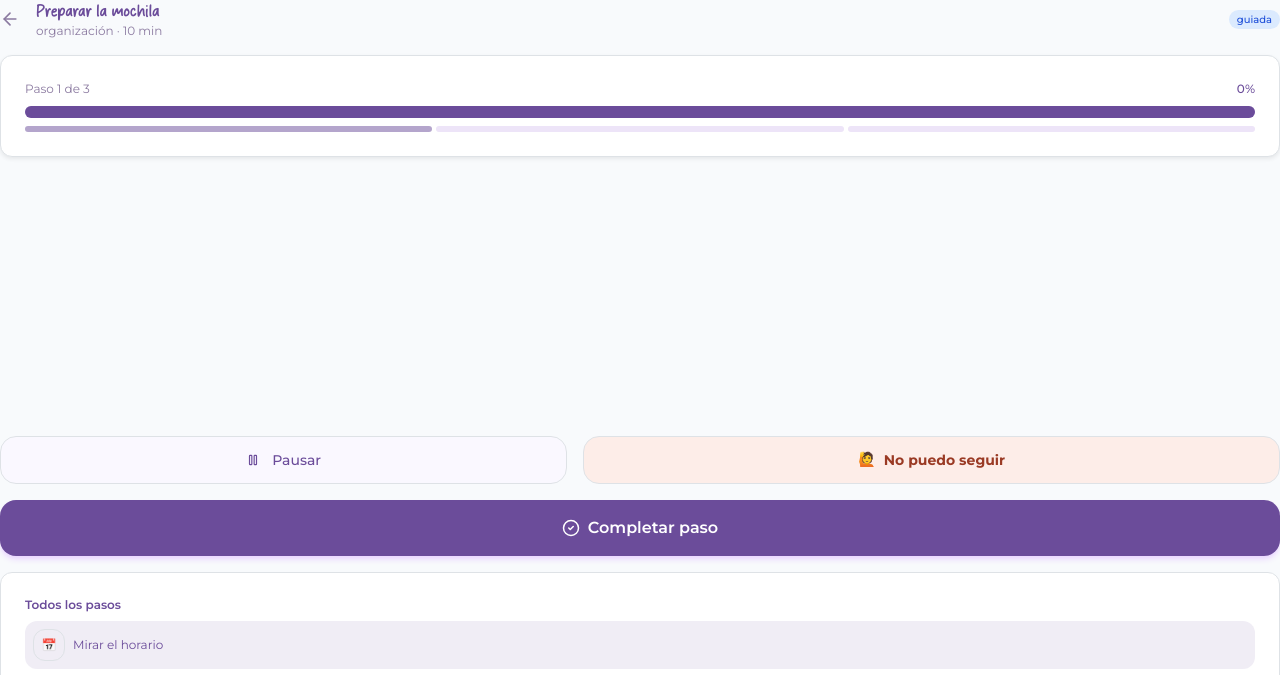
Test: No puedo seguir › "Lo hago así" cierra la hoja y muestra el Plan B, que se cierra con la ✕
Click the button "🙋 No puedo seguir". click: (932, 460)
box: [583,436,1279,484]
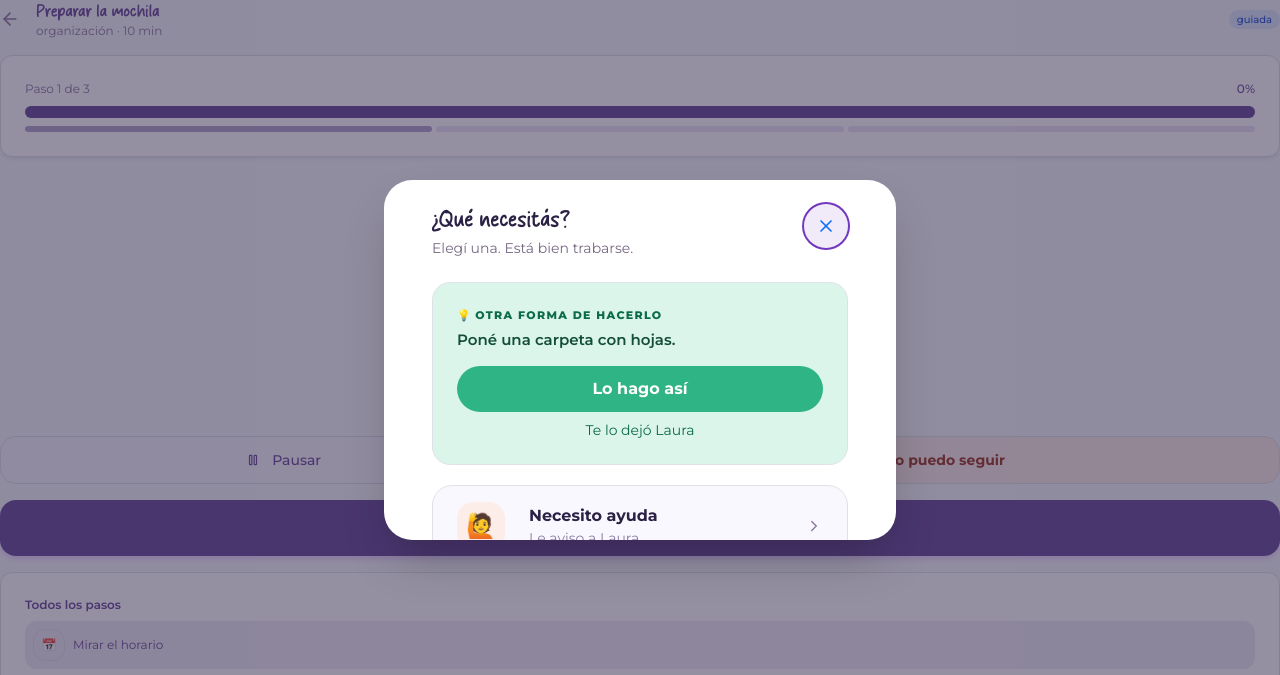
Click the button "Lo hago así". click: (640, 389)
box: [457,366,823,412]
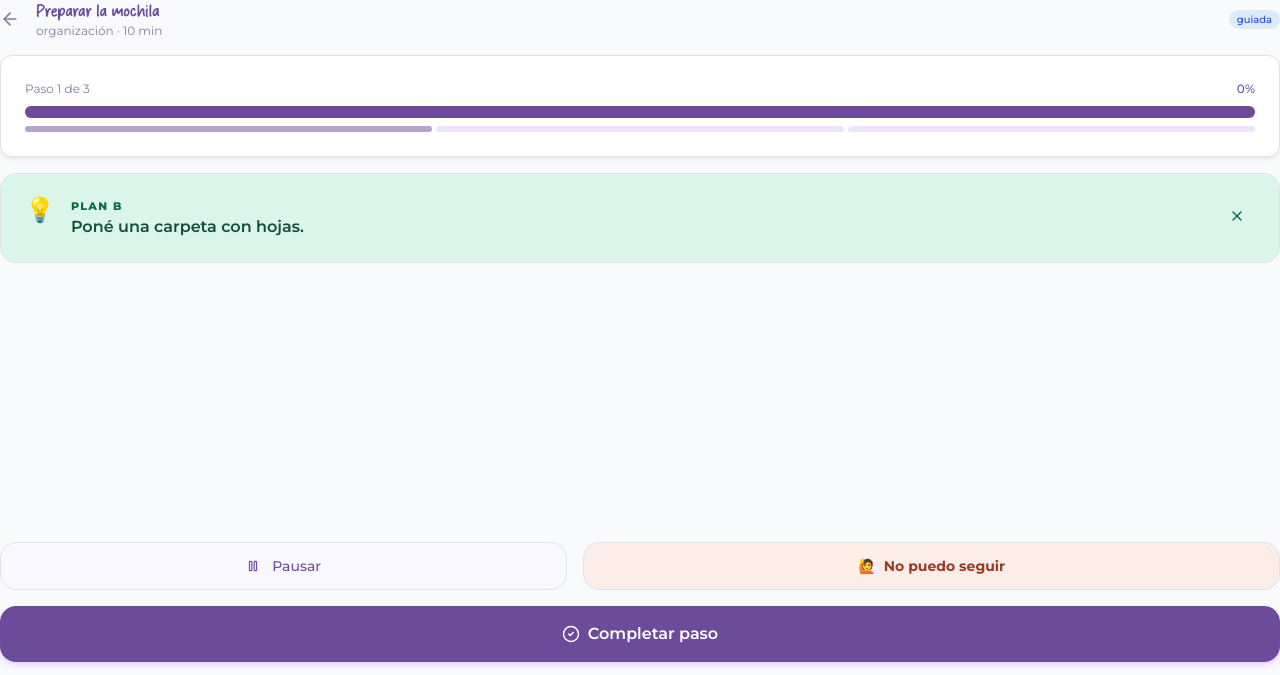
Now the text "Poné una carpeta con hojas." is shown, box [71,217,304,236]
Now the heading "¿Qué necesitás?" is gone
Click the button named "Cerrar Plan B". click: (1237, 216)
box: [1219,198,1255,234]
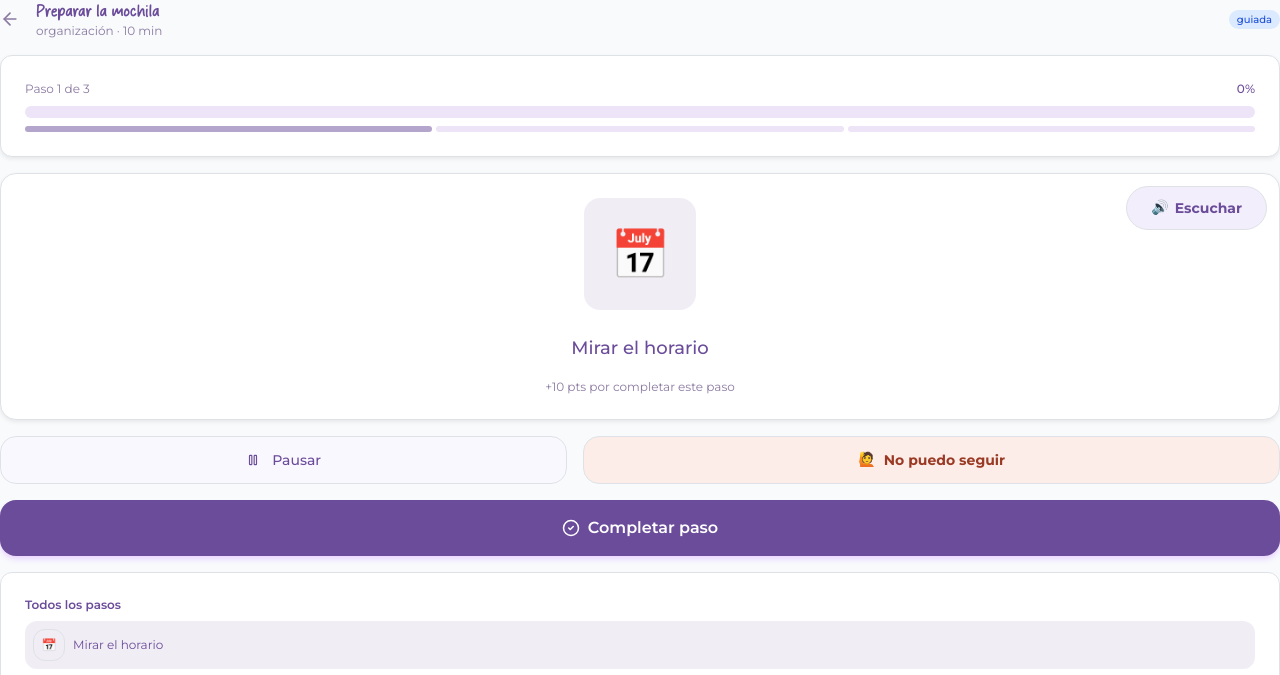
Now the text "Poné una carpeta con hojas." is gone
